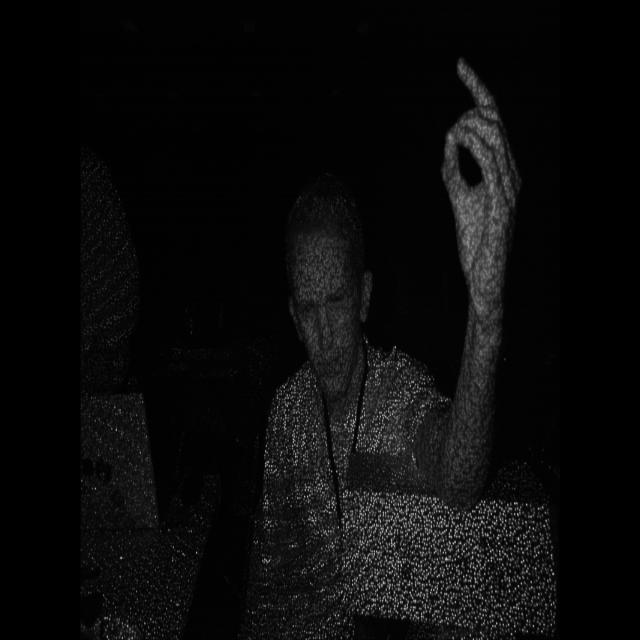D: (425, 24, 545, 359)
